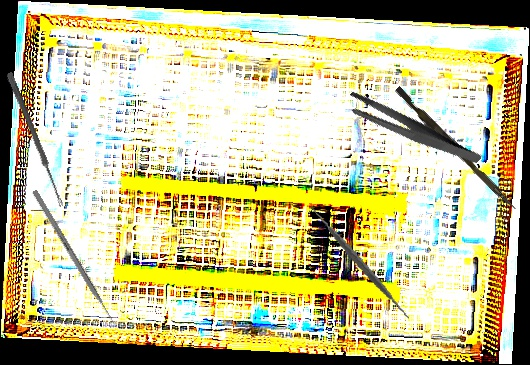Dressing Forceps: (342, 65, 483, 195)
Pusher: (391, 85, 522, 212), (31, 189, 120, 331)
Spatula Surgical: (295, 198, 425, 327)
Surgical Spoon: (5, 71, 66, 208)
